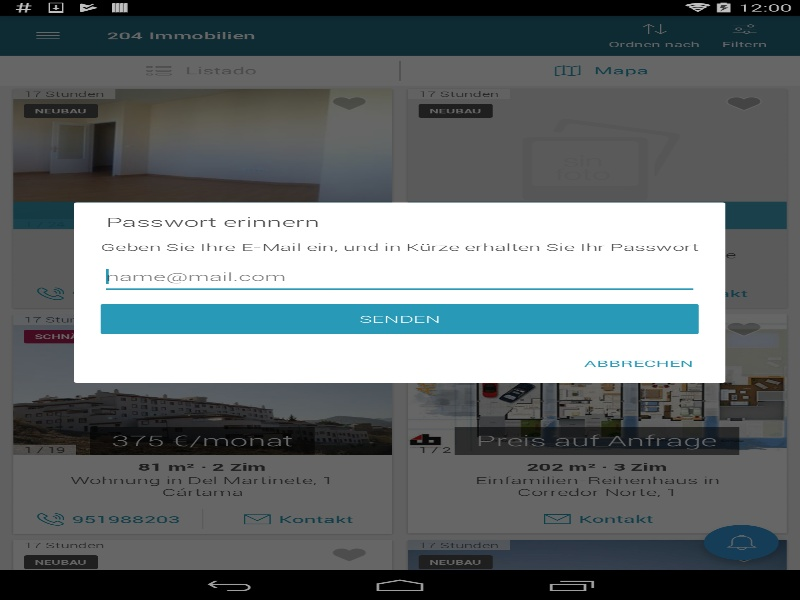Button: (100, 304, 698, 334), (568, 346, 709, 380)
Input: (100, 263, 698, 294)
